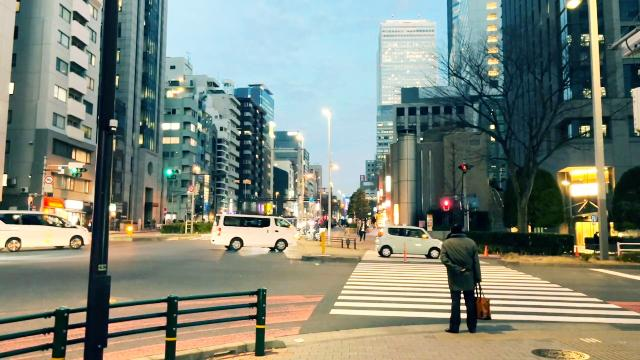berdiri: (440, 224, 492, 332)
